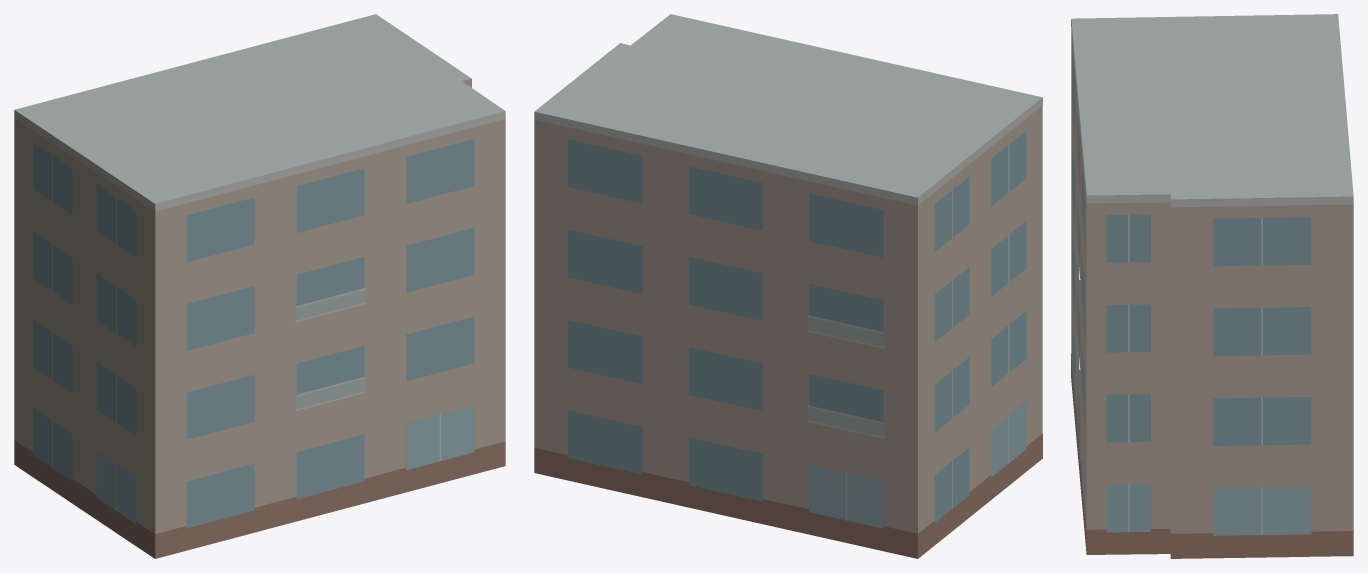
The model's file is survey-upis-32559959.glb.
3 renders of one model, left to right at view 1: azimuth 30°, elevation 25°; view 2: azimuth 150°, elevation 25°; view 3: azimuth 270°, elevation 25°, orthographic.
Visible parts, largest first — view 1: survey-upis-32559959.tmp; view 2: survey-upis-32559959.tmp; view 3: survey-upis-32559959.tmp.
Part boxes in pixels (x1,y1,x2,y2): survey-upis-32559959.tmp: [14, 14, 505, 558]; survey-upis-32559959.tmp: [534, 14, 1042, 558]; survey-upis-32559959.tmp: [1071, 14, 1353, 558].
Bounding box in the file's own units: 12.29 × 11.1 × 7.91.
